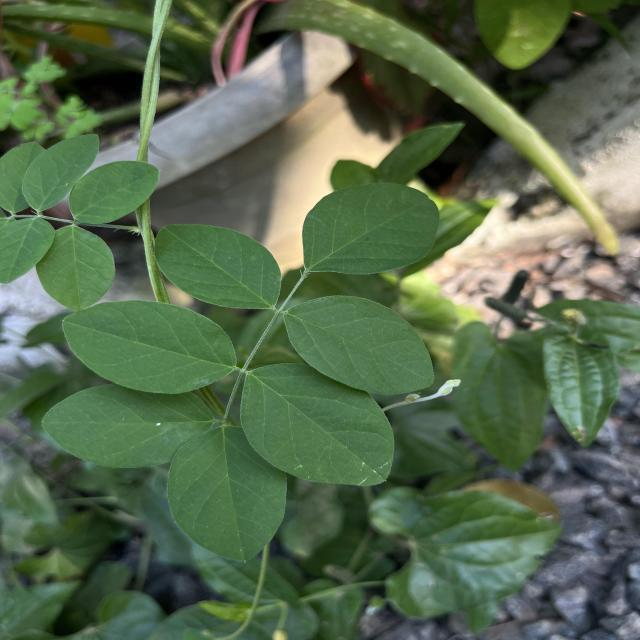Clitoria ternatea: (238, 362, 396, 487), (165, 424, 290, 562), (61, 300, 240, 394), (281, 294, 436, 396), (39, 382, 218, 469), (300, 182, 442, 276), (152, 222, 283, 310)
